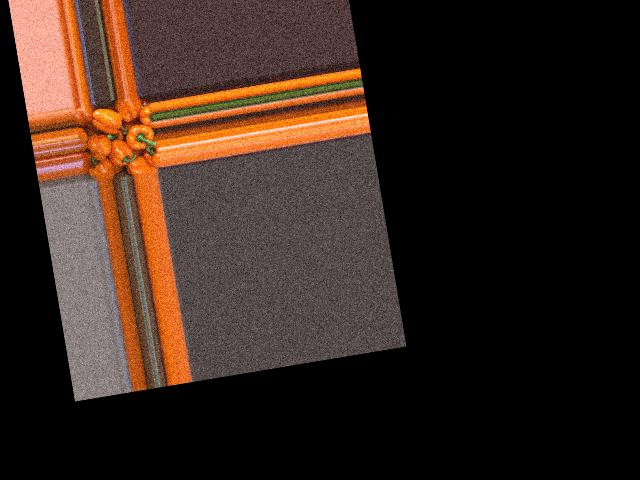bell_pepper: (78, 144, 100, 176)
